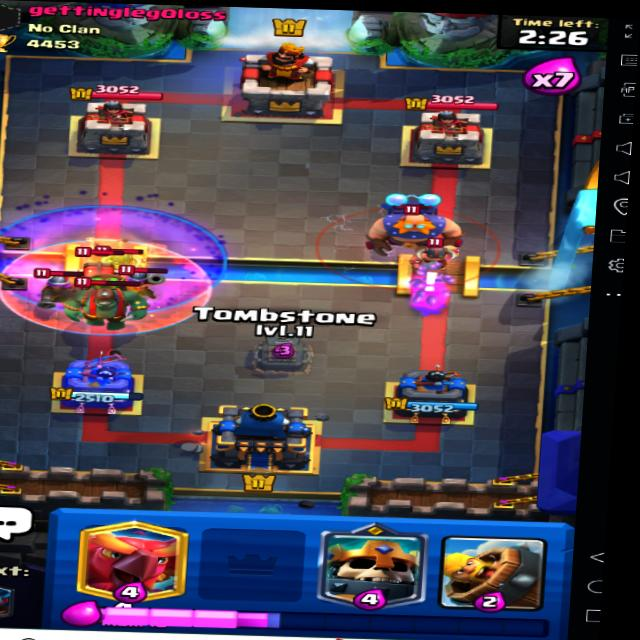electro-barbarians: (405, 239, 462, 277), (97, 241, 152, 276)
electro-giant: (357, 193, 475, 261)
goblin-giant: (62, 270, 152, 335)
musketeer: (28, 265, 81, 308), (118, 264, 164, 296)
sparky: (76, 252, 120, 289)
